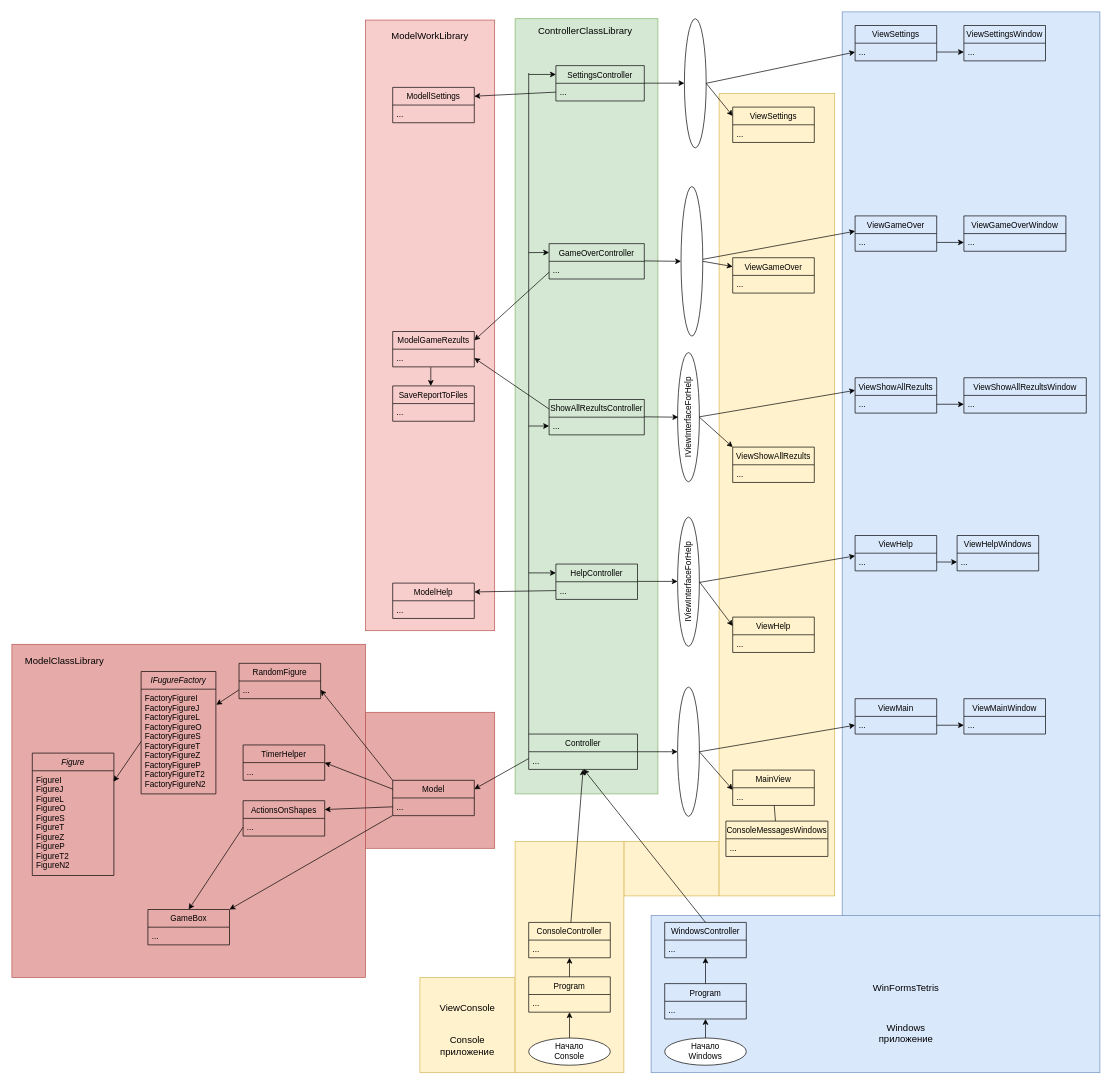
This 1112x1085 diagram has some shape labels left out. The centre of each missing label's shape, as x and y in pixels:
"IViewInterfaceForController" belongs at [688,751].
"IViewInterfaceForGameOverController" belongs at [691,261].
"IViewInterfaceForSettings" belongs at [695,83].
